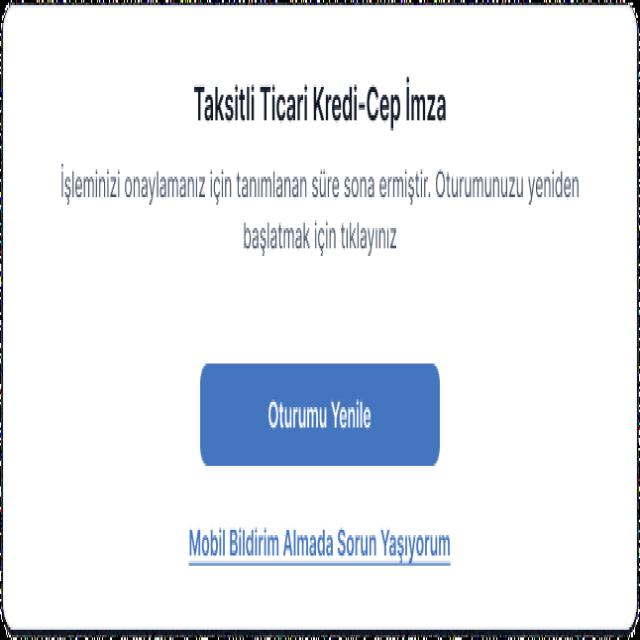QLabel: (56, 152, 588, 205), (187, 74, 448, 138), (185, 518, 454, 577), (238, 209, 402, 269), (266, 393, 378, 440)
VBtn: (201, 362, 440, 469)
VCard: (1, 0, 640, 640)
